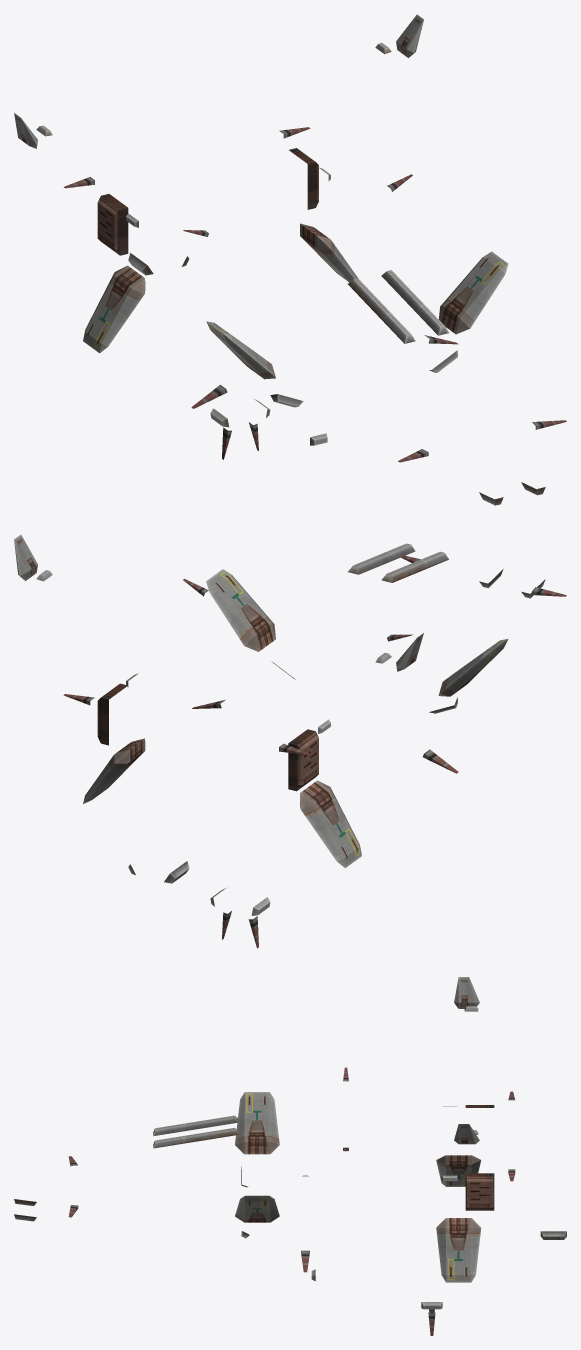
File: tan_assault_frigate_01_t3.glb
The picture shows the model from 3 angles, top to bottom: view 1: azimuth 30°, elevation 25°; view 2: azimuth 150°, elevation 25°; view 3: azimuth 270°, elevation 25°; orthographic projection. The views are drawn at different scales.
Parts seen in each view (by area): view 1: tan_assault_fregate_01_t3_LOD0; view 2: tan_assault_fregate_01_t3_LOD0; view 3: tan_assault_fregate_01_t3_LOD0.
Boxes of the visible parts, x1,y1,x2,y2 form: tan_assault_fregate_01_t3_LOD0: (14, 14, 566, 505); tan_assault_fregate_01_t3_LOD0: (14, 534, 566, 948); tan_assault_fregate_01_t3_LOD0: (14, 977, 566, 1335).
Size of what is drawn, in the model's own units: 2 by 1.77 by 3.18.
Materials: 1 (1 with a texture image).
